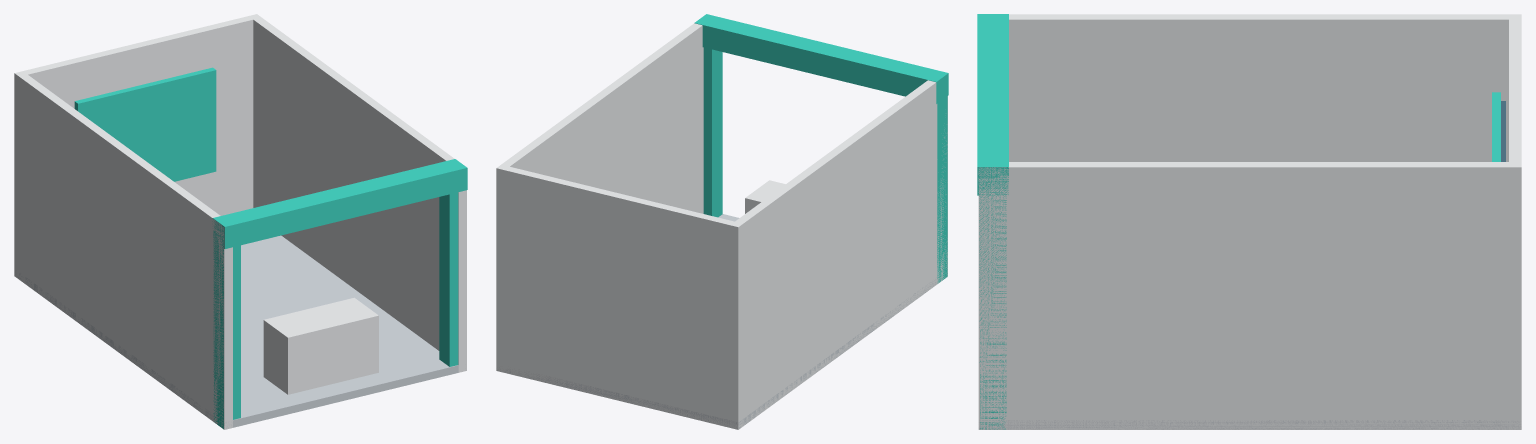
The picture shows the model from 3 angles, left to right: view 1: azimuth 30°, elevation 25°; view 2: azimuth 150°, elevation 25°; view 3: azimuth 270°, elevation 25°; orthographic projection. The views are drawn at different scales.
Parts seen in each view (by area): view 1: Exhibition Booth Concept; view 2: Exhibition Booth Concept; view 3: Exhibition Booth Concept.
Part boxes in pixels (bbox=[...]): Exhibition Booth Concept: bbox=[14, 14, 467, 429]; Exhibition Booth Concept: bbox=[496, 14, 948, 429]; Exhibition Booth Concept: bbox=[977, 14, 1521, 429].
Bounding box in the file's own units: 4 × 3.2 × 6.02.
